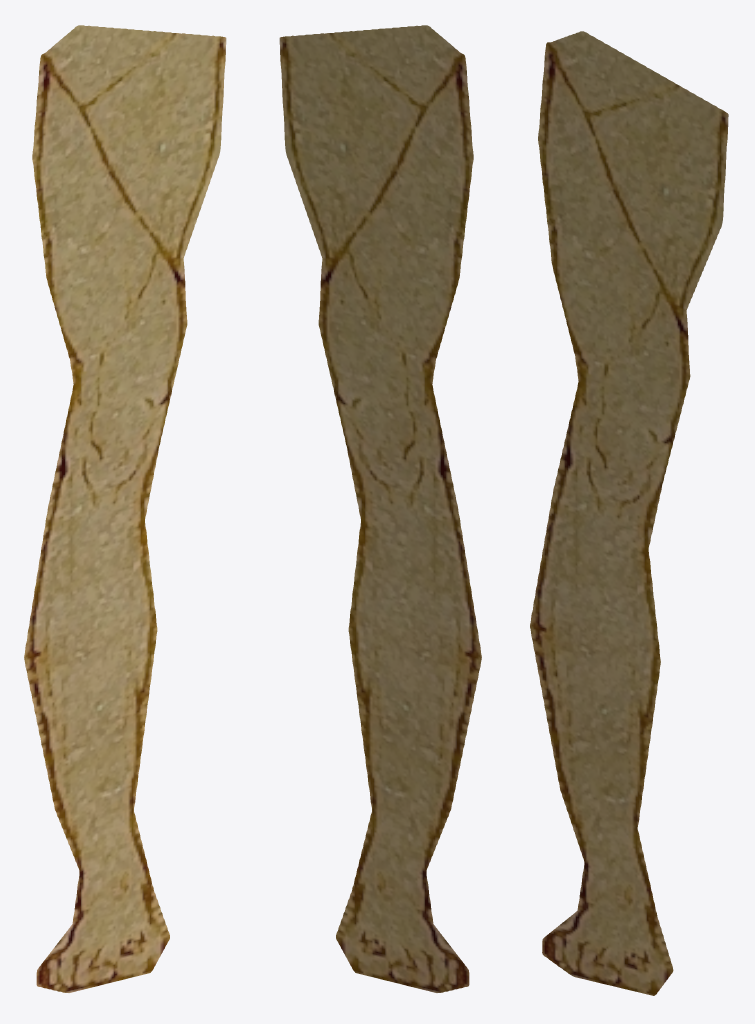
File: leg_Lmid.fbx
3 views of the same model, side by side, from view 1: azimuth 30°, elevation 25°; view 2: azimuth 150°, elevation 25°; view 3: azimuth 330°, elevation 25° (orthographic).
Visible parts, largest first — view 1: leg_Lmid; view 2: leg_Lmid; view 3: leg_Lmid.
Part boxes in pixels (x1,y1,x2,y2): leg_Lmid: (24, 25, 226, 992); leg_Lmid: (279, 25, 481, 992); leg_Lmid: (530, 31, 728, 995).
Size of the model in its own units: 38.9 by 164 by 1.24e-05.
